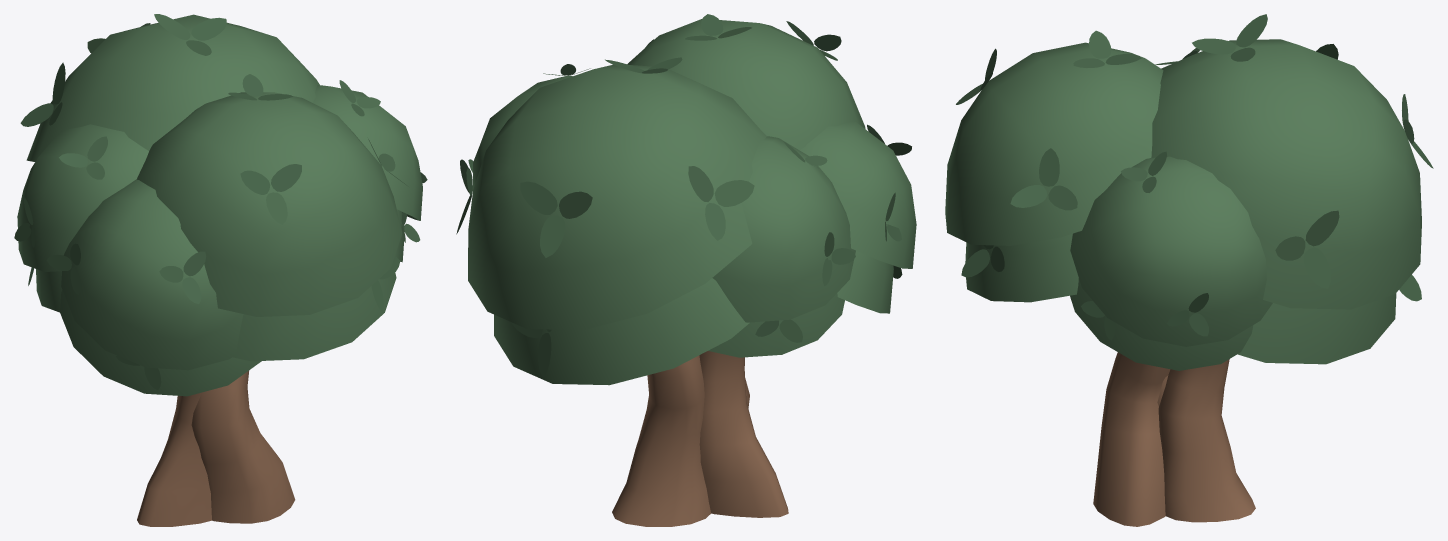
The model's file is Tree_B.fbx.
3 views of the same model, side by side, from view 1: azimuth 30°, elevation 25°; view 2: azimuth 150°, elevation 25°; view 3: azimuth 270°, elevation 25° (orthographic). The views are drawn at different scales.
Parts seen in each view (by area): view 1: Tree_B; view 2: Tree_B; view 3: Tree_B.
Boxes of the visible parts, left/top/right/bottom form: Tree_B: left=14, top=14, right=427, bottom=526; Tree_B: left=456, top=14, right=916, bottom=526; Tree_B: left=945, top=14, right=1433, bottom=526.
Size of the model in its own units: 88.71 by 99.09 by 92.53.
